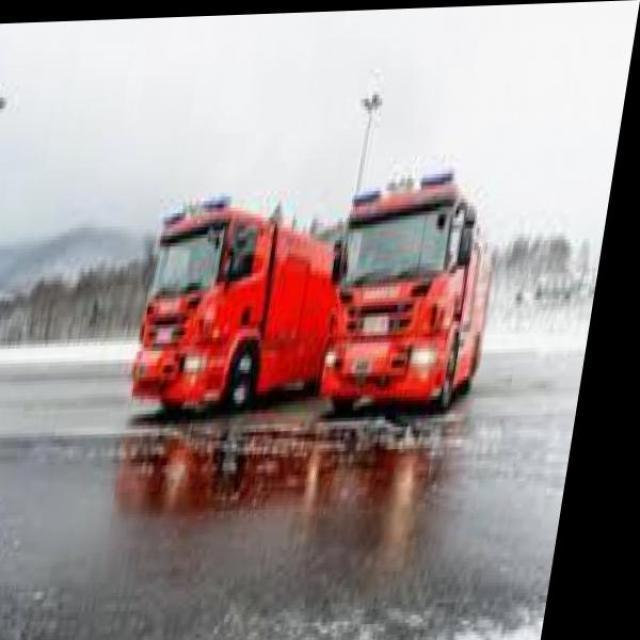emergency: (129, 192, 339, 416), (318, 168, 494, 416)
